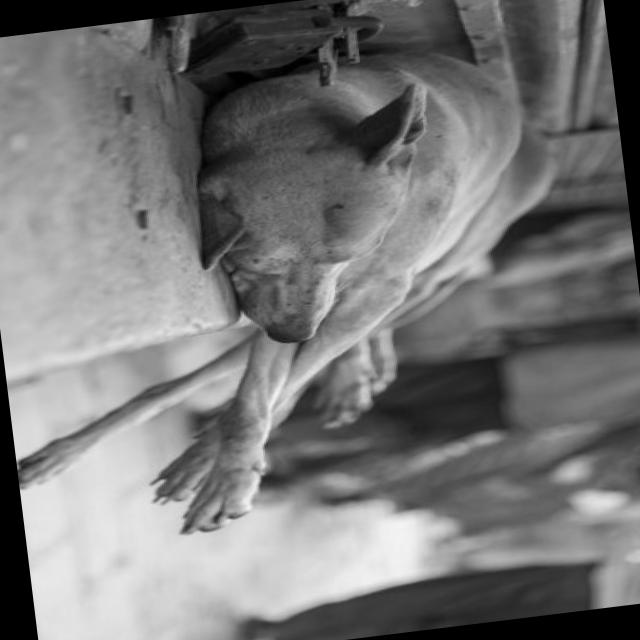laying down: (0, 22, 606, 563)
